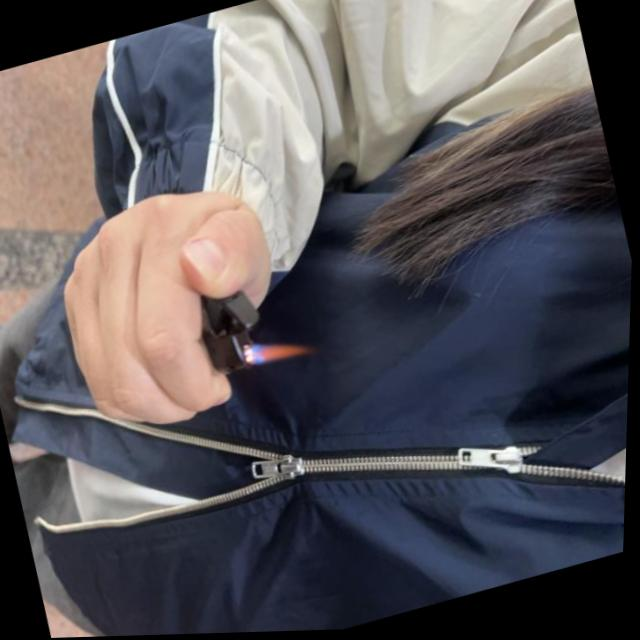Fire: (242, 329, 322, 371)
